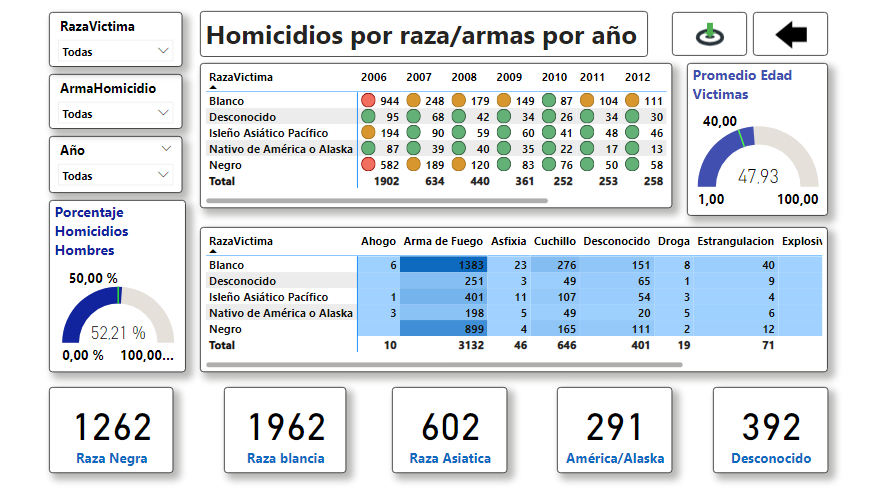

This screenshot's page, from the dashboard's own definition file:
{"tool":"powerbi","page":{"name":"Raza y Armas","canvas":[1280,720],"ordinal":3},"visuals":[{"type":"card","fields":{"Values":["Medidas.Raza blancia"]},"box":[329.8,564.5,175.7,123.8],"z":0},{"type":"card","fields":{"Values":["Medidas.Porcentaje Victimas Raza Negra"]},"box":[77.8,564.5,178.6,123.8],"z":1000},{"type":"card","fields":{"Values":["Medidas.Porcentaje Victimas Raza Asiatica"]},"box":[571.7,564.5,165.6,123.8],"z":2000},{"type":"card","fields":{"Values":["Medidas.Porcentaje Victimas Raza Desconocido"]},"box":[1033.9,564.5,165.6,123.8],"z":3000},{"type":"card","fields":{"Values":["Medidas.Porcentaje Nativo América/Alaska"]},"box":[809.3,564.5,165.6,123.8],"z":4000},{"type":"pivotTable","fields":{"Values":["Medidas.Total Homicidios"],"Rows":["Víctimas.RazaVictima"],"Columns":["Tabla Calendario.Anio"]},"box":[295.2,97.9,679.7,208.8],"z":5000},{"type":"pivotTable","fields":{"Values":["Medidas.Total Homicidios"],"Rows":["Víctimas.RazaVictima"],"Columns":["Tipos de Homicidios.ArmaHomicidio"]},"box":[295.2,334.1,904.3,208.8],"z":6000},{"type":"slicer","fields":{"Values":["Tabla Calendario.Anio"]},"box":[77.8,203,191.5,82.1],"z":7000},{"type":"slicer","fields":{"Values":["Tipos de Homicidios.ArmaHomicidio"]},"box":[77.8,113.8,191.5,79.2],"z":8000},{"type":"textbox","box":[295.2,23,645.1,66.2],"z":9000},{"type":"gauge","fields":{"Y":["Medidas.Porcentaje Homicidios por Género"]},"box":[77.8,295.2,197.3,247.7],"z":10000},{"type":"gauge","fields":{"Y":["Medidas.Promedio Edad Victimas"]},"box":[996.5,97.9,203,220.3],"z":11000},{"type":"actionButton","box":[974.9,24.5,108,63.4],"z":12000},{"type":"actionButton","box":[1091.5,24.5,108,63.4],"z":13000},{"type":"slicer","fields":{"Values":["Víctimas.RazaVictima"]},"box":[77.8,24.5,191.5,79.2],"z":14000}]}

Visuals, with their boxes in screenshot pixels (x1, y1, x2, y2), scaled from the page's 1280x720 canvas onto the 877x491 screenshot:
card - Medidas.Raza blancia: 226,385,346,469
card - Medidas.Porcentaje Victimas Raza Negra: 53,385,176,469
card - Medidas.Porcentaje Victimas Raza Asiatica: 392,385,505,469
card - Medidas.Porcentaje Victimas Raza Desconocido: 708,385,822,469
card - Medidas.Porcentaje Nativo América/Alaska: 554,385,668,469
pivotTable - Medidas.Total Homicidios x Víctimas.RazaVictima: 202,67,668,209
pivotTable - Medidas.Total Homicidios x Víctimas.RazaVictima: 202,228,822,370
slicer - Tabla Calendario.Anio: 53,138,185,194
slicer - Tipos de Homicidios.ArmaHomicidio: 53,78,185,132
textbox: 202,16,644,61
gauge - Medidas.Porcentaje Homicidios por Género: 53,201,188,370
gauge - Medidas.Promedio Edad Victimas: 683,67,822,217
actionButton: 668,17,742,60
actionButton: 748,17,822,60
slicer - Víctimas.RazaVictima: 53,17,185,71
